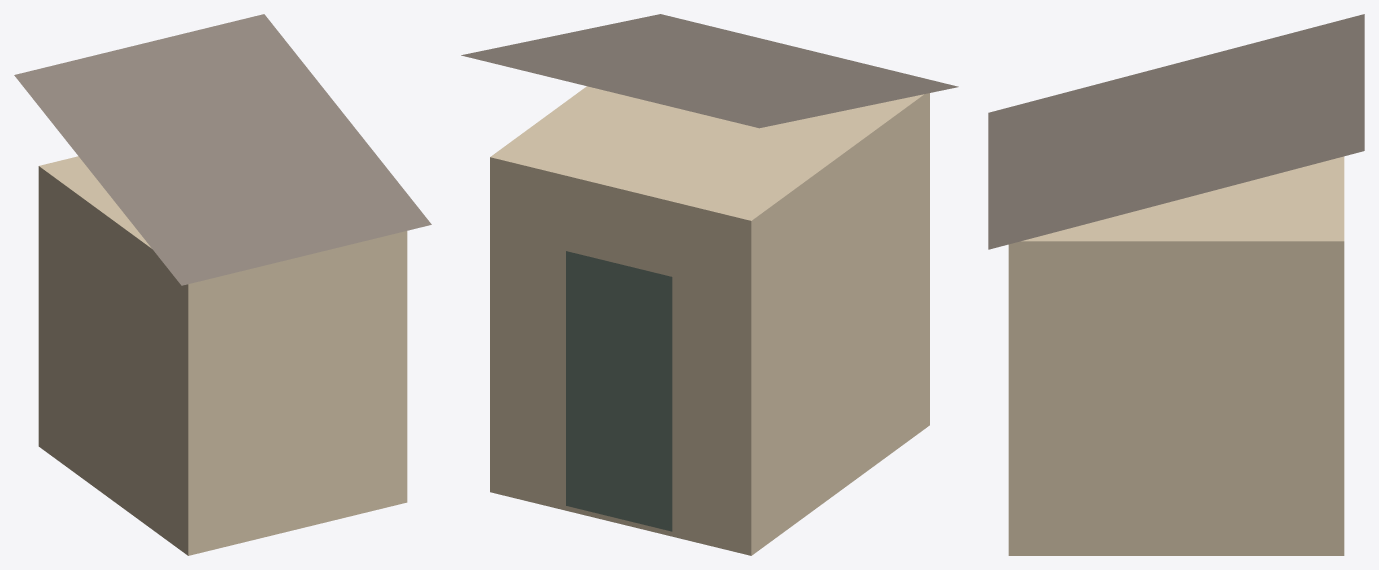
Rendered from recon_1835_south_a3_041__recommended_1835.glb.
3 renders of one model, left to right at view 1: azimuth 30°, elevation 25°; view 2: azimuth 150°, elevation 25°; view 3: azimuth 270°, elevation 25°, orthographic. The views are drawn at different scales.
Visible parts, largest first — view 1: recon_1835_south_a3_041__recommended_1835; view 2: recon_1835_south_a3_041__recommended_1835; view 3: recon_1835_south_a3_041__recommended_1835.
Part boxes in pixels (x1=…): recon_1835_south_a3_041__recommended_1835: x1=14, y1=14, x2=431, y2=555; recon_1835_south_a3_041__recommended_1835: x1=461, y1=14, x2=958, y2=555; recon_1835_south_a3_041__recommended_1835: x1=988, y1=14, x2=1364, y2=555.
Bounding box in the file's own units: 1.91 × 2.69 × 2.22.
